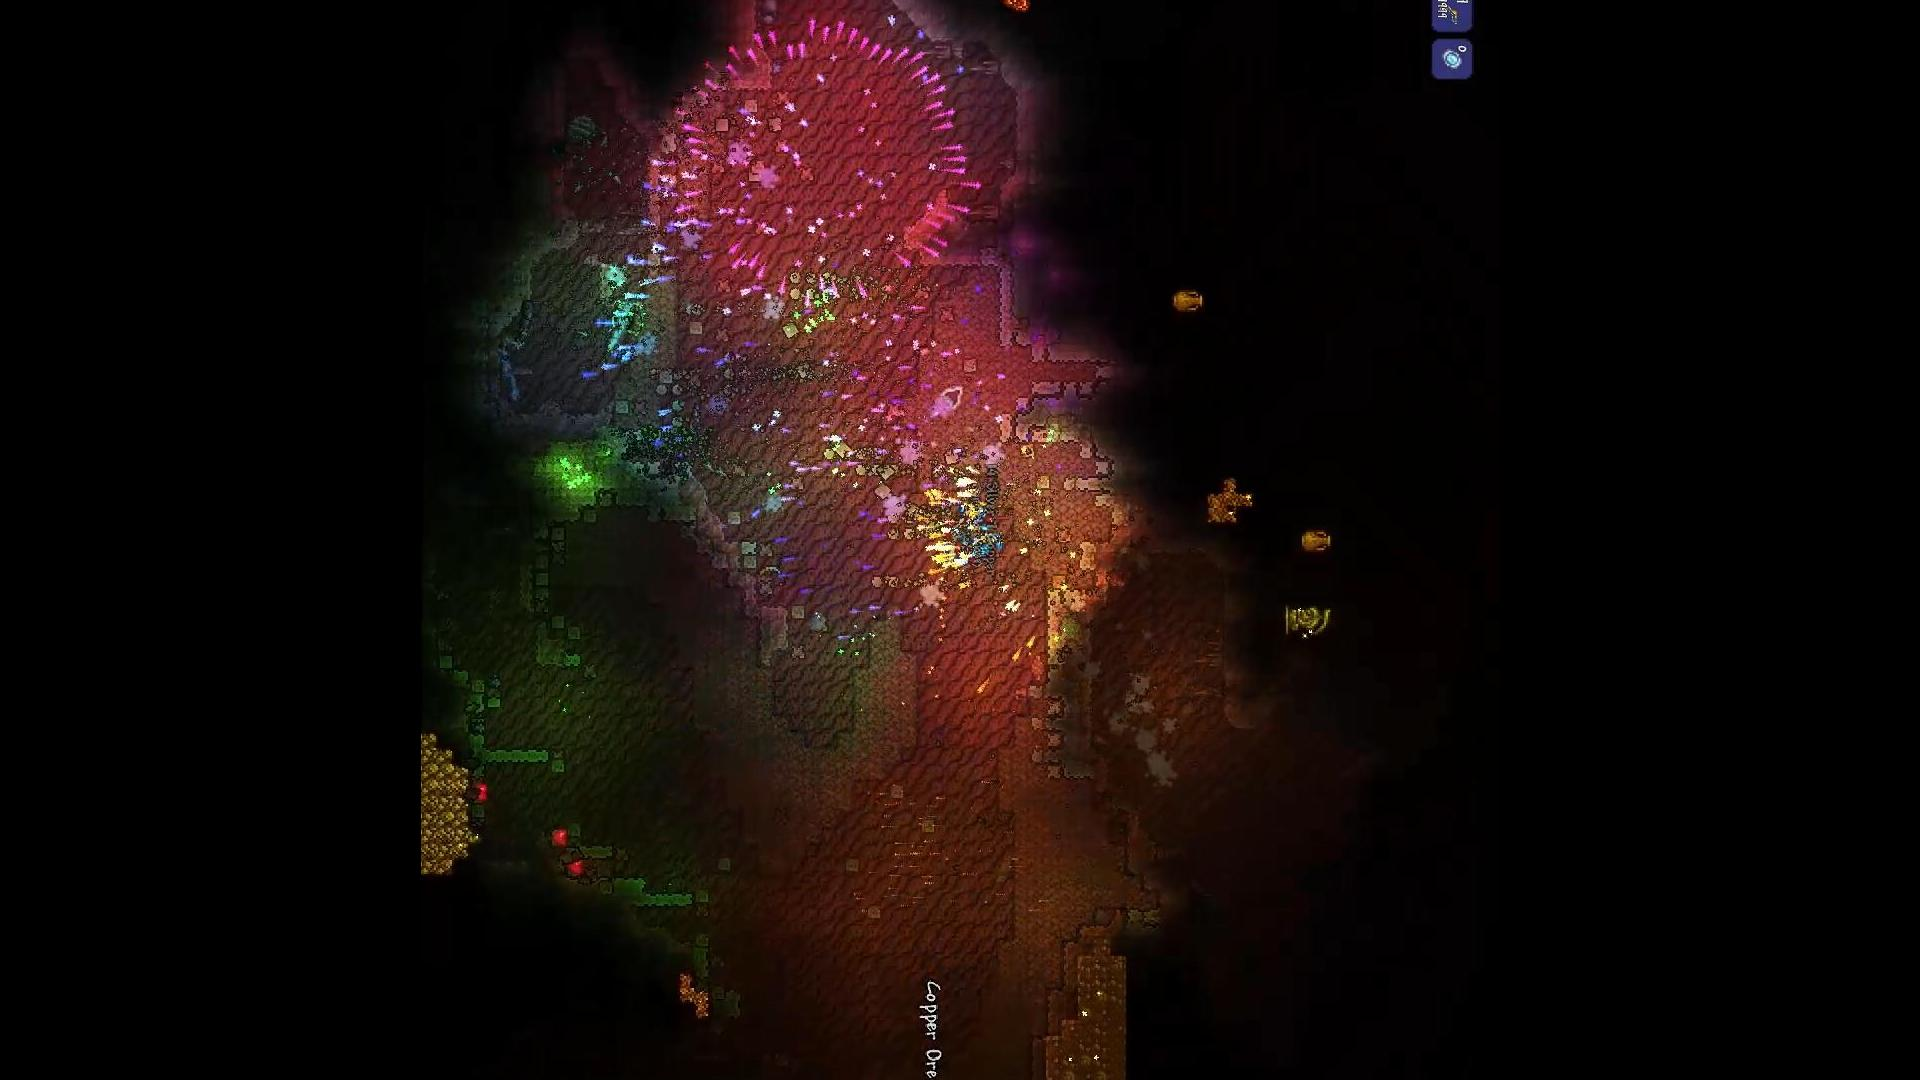lifeC: (996, 0, 1033, 12)
